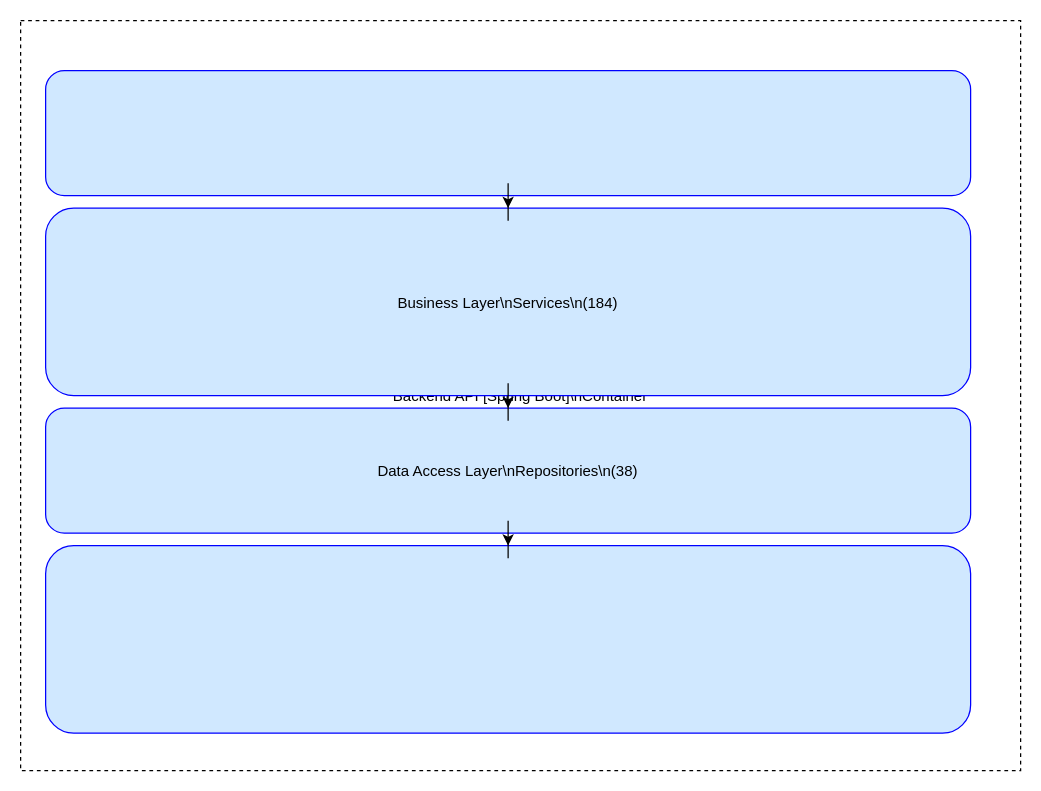
This 1041x791 diagram has some shape labels left out. Here are the shapes that lost their labels. From the top down, the centre of each, then its label:
At point 507,132: "Presentation Layer\nControllers\n(32)".
At point 507,638: "Domain Layer\nEntities\n(360)".
